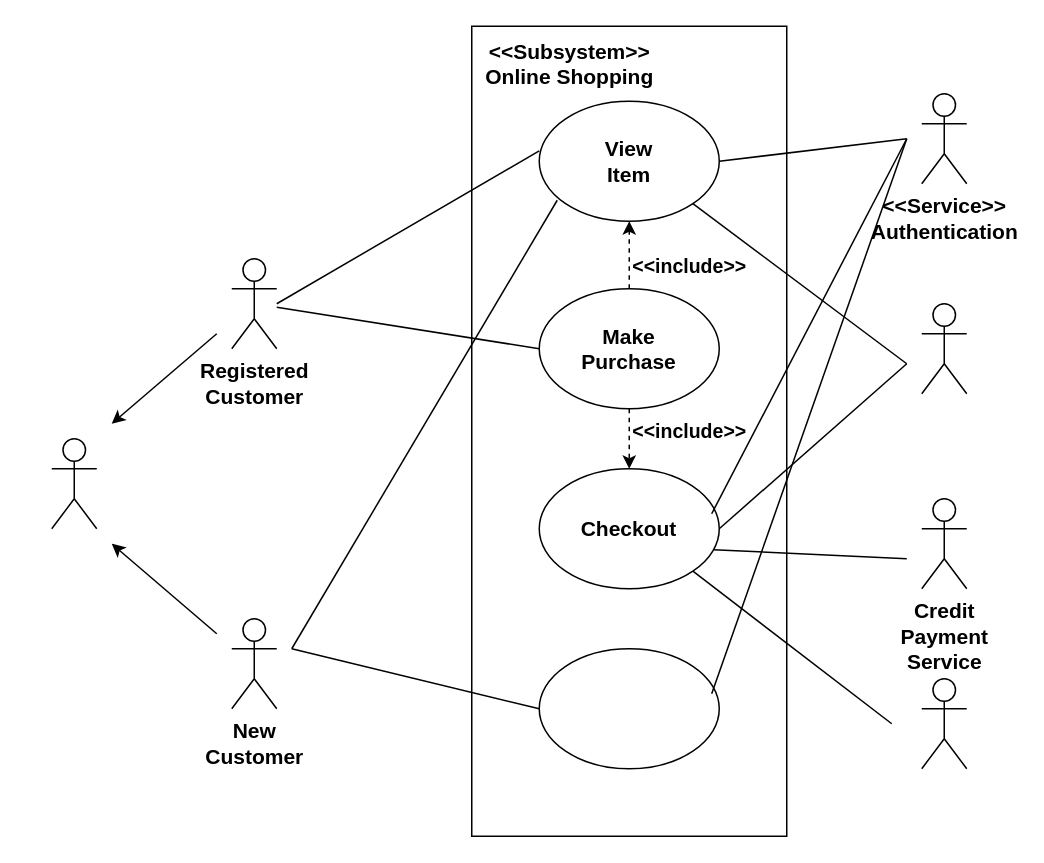
This 1044x863 diagram has some shape labels left out. The shapes that lost their labels are listed below. From the top down, each one's centre as x and y in pixels, then its label:
At pixel 943 348: "Identity Provider".
At pixel 73 483: "Web Customer".
At pixel 628 708: "Client Register".
At pixel 943 723: "PayPal".
